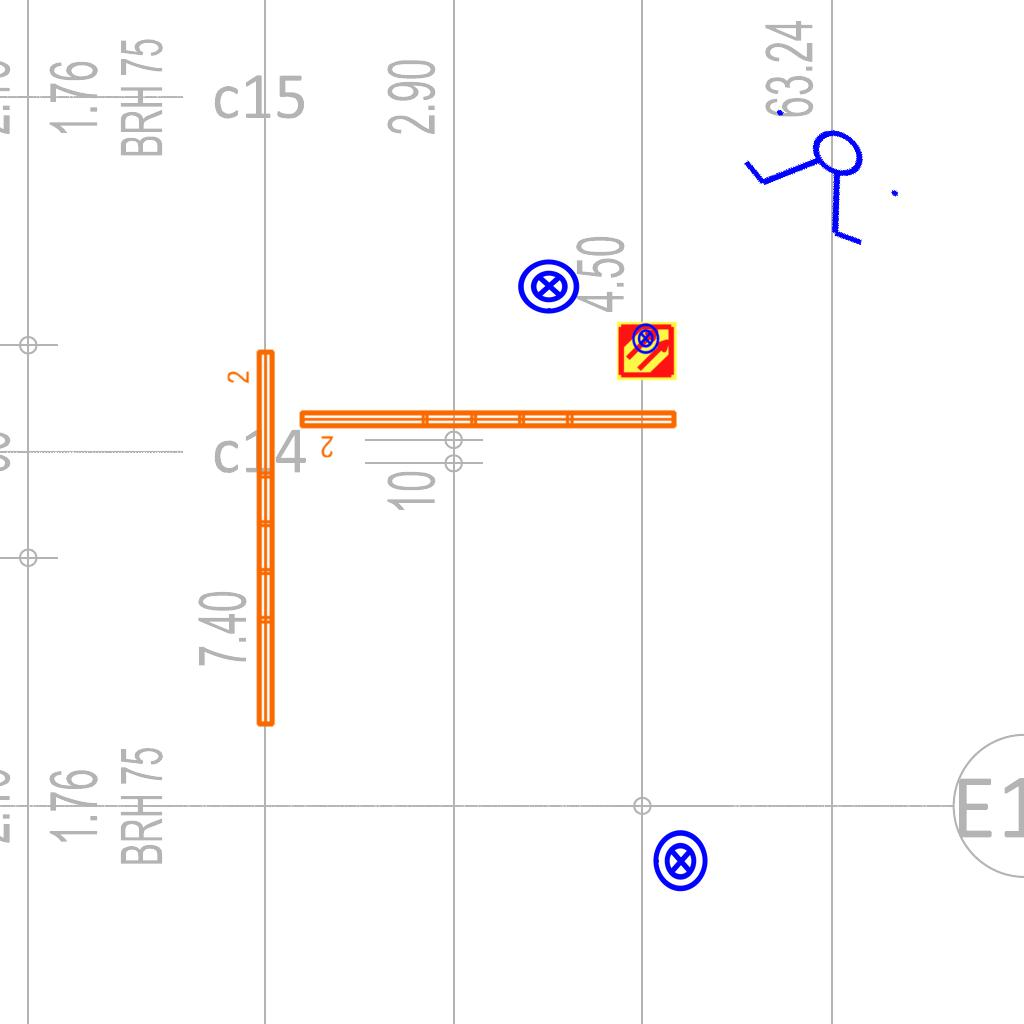ASR_Ansaugrauchmelder: (616, 320, 678, 382)
Ambulanz_Pendelleuchte_LED: (225, 345, 281, 732), (295, 404, 682, 460)
Serienschalter: (727, 87, 921, 263)
Taster_beleuchtet: (516, 253, 582, 319), (648, 828, 714, 894), (629, 322, 662, 355)
